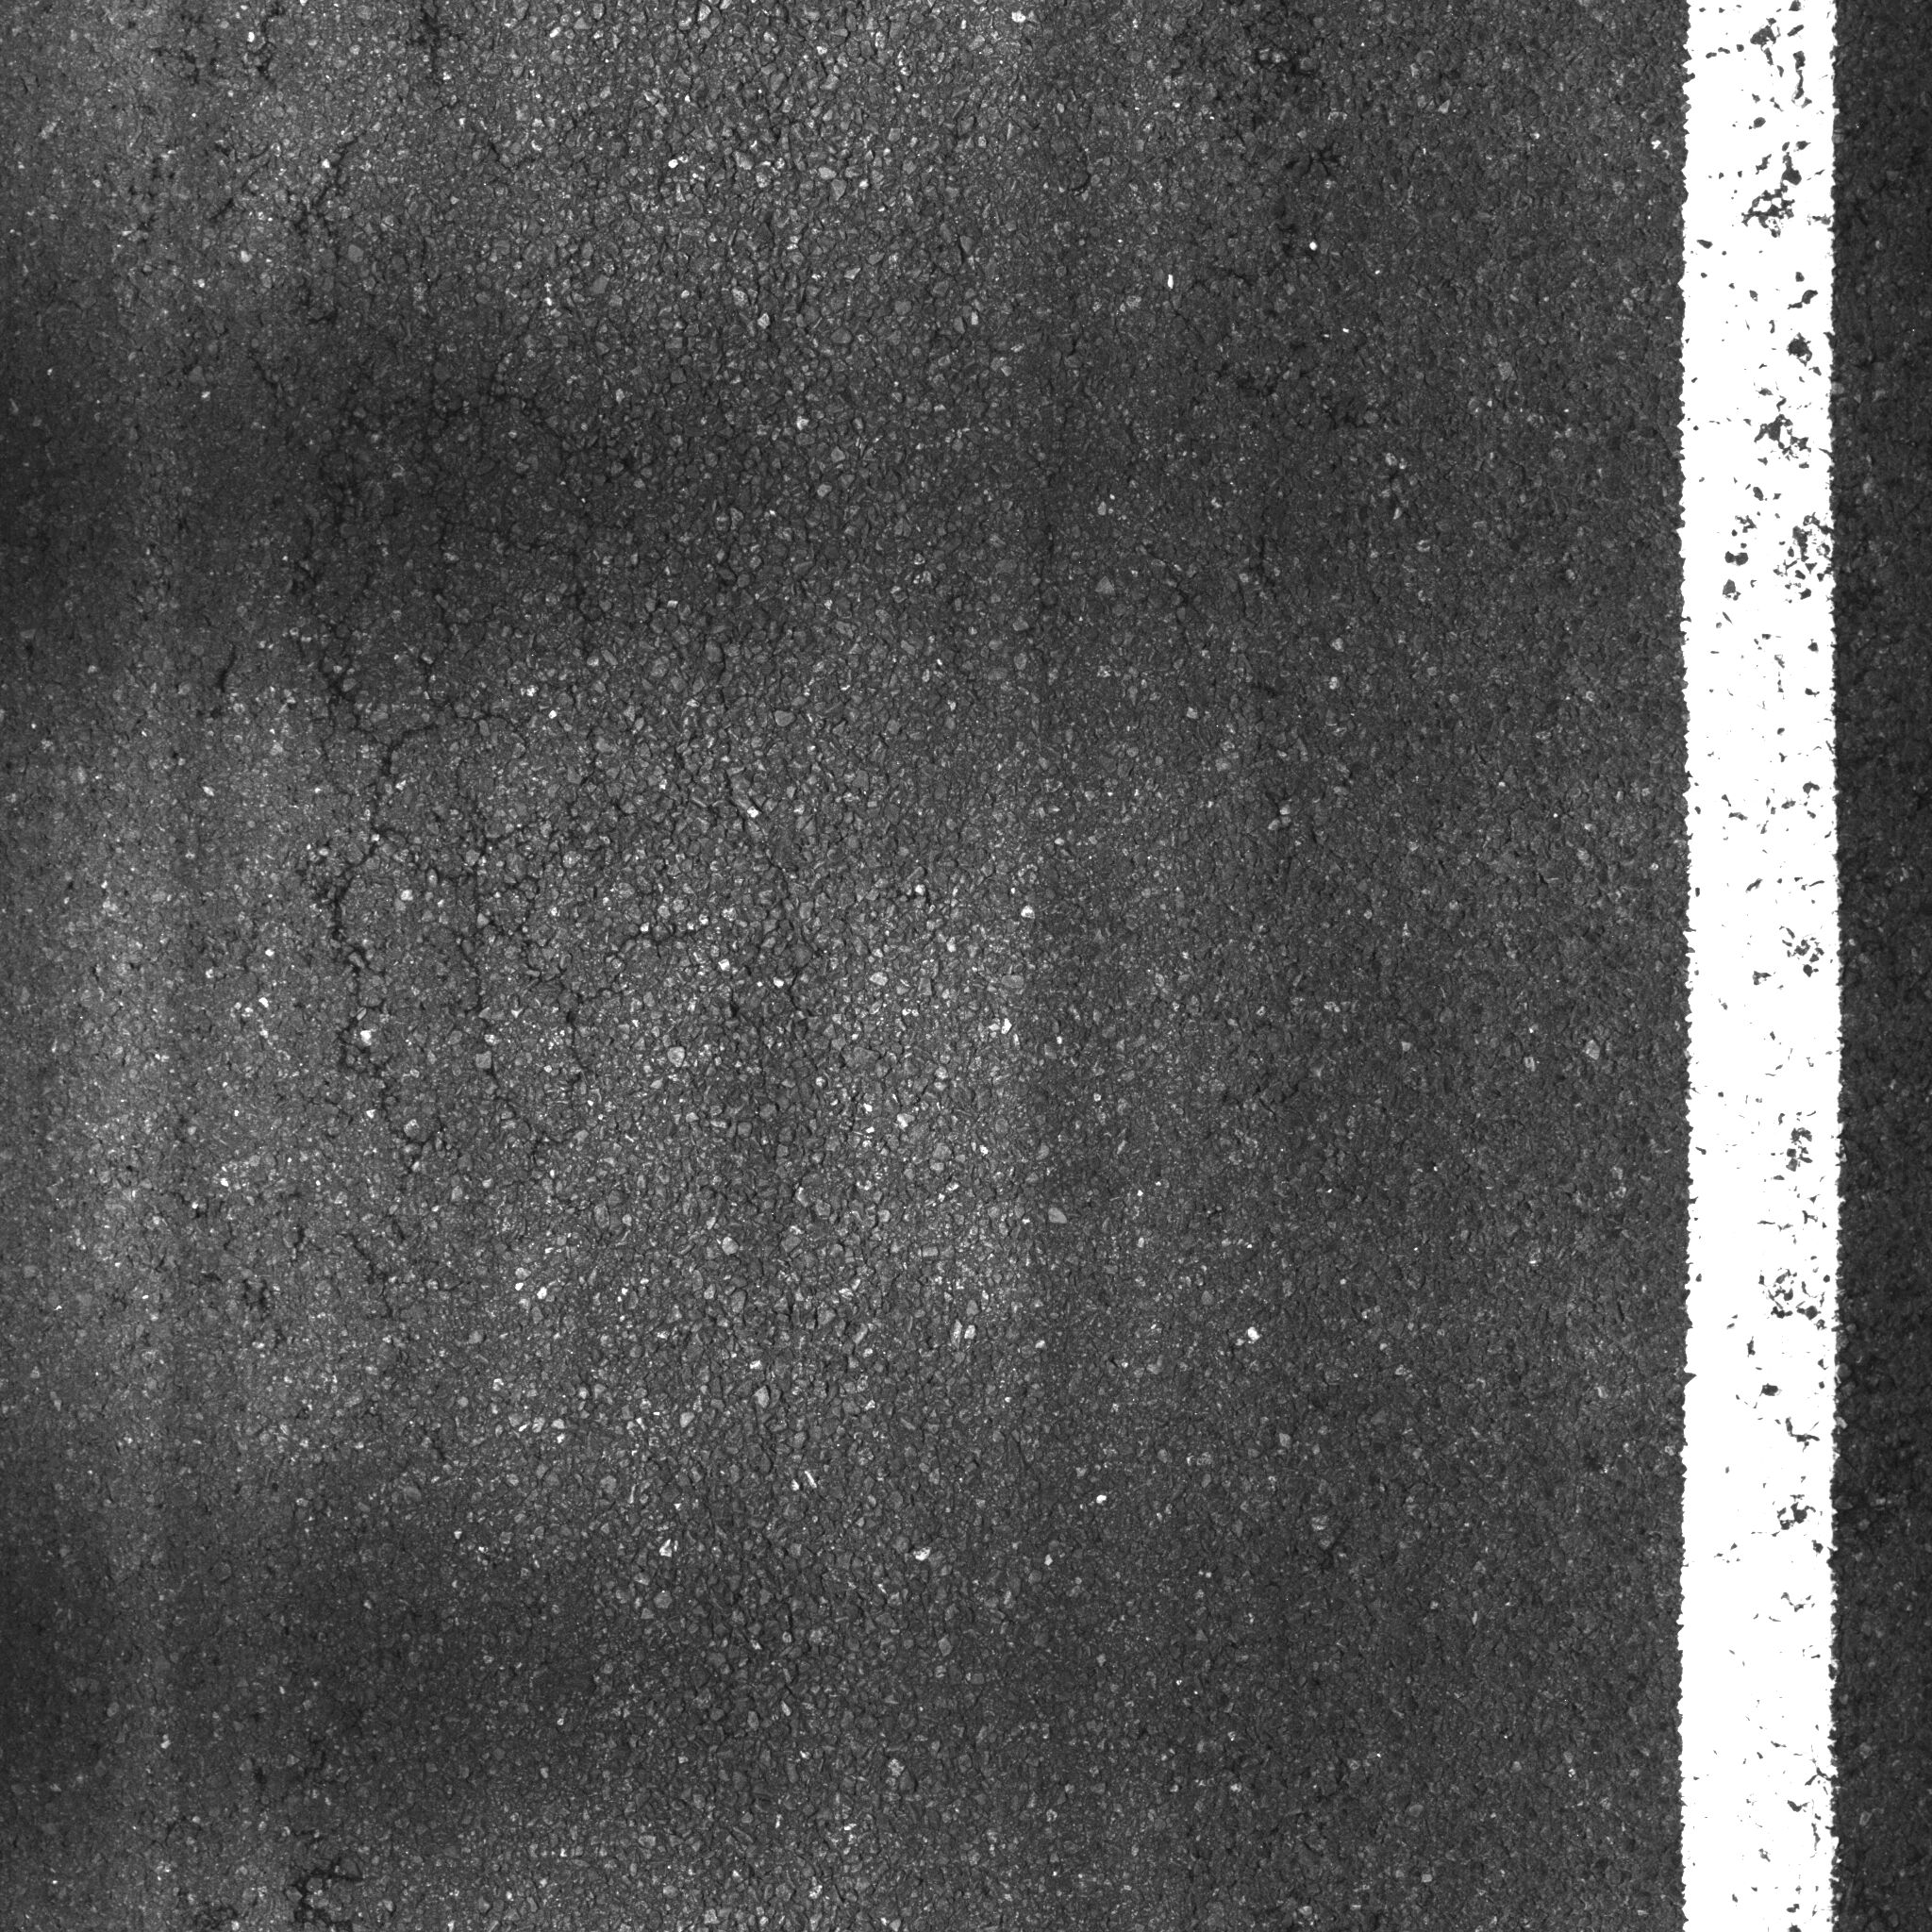alligator: (138, 2, 835, 1431)
